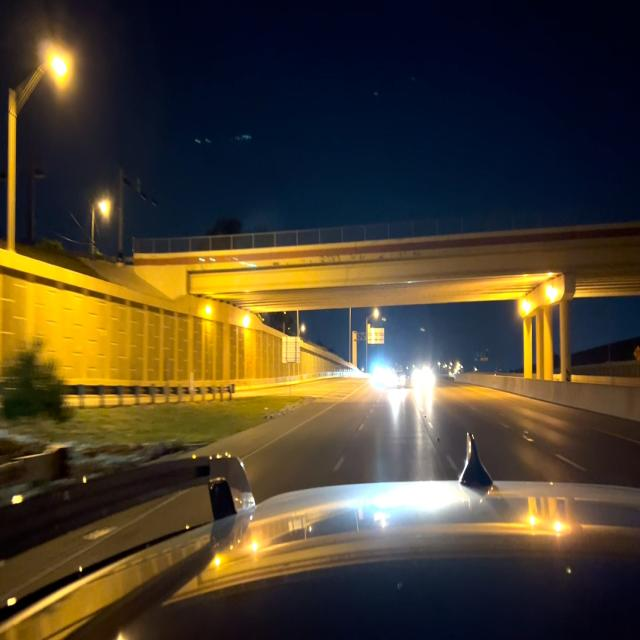back-of-sign: (282, 337, 299, 363)
